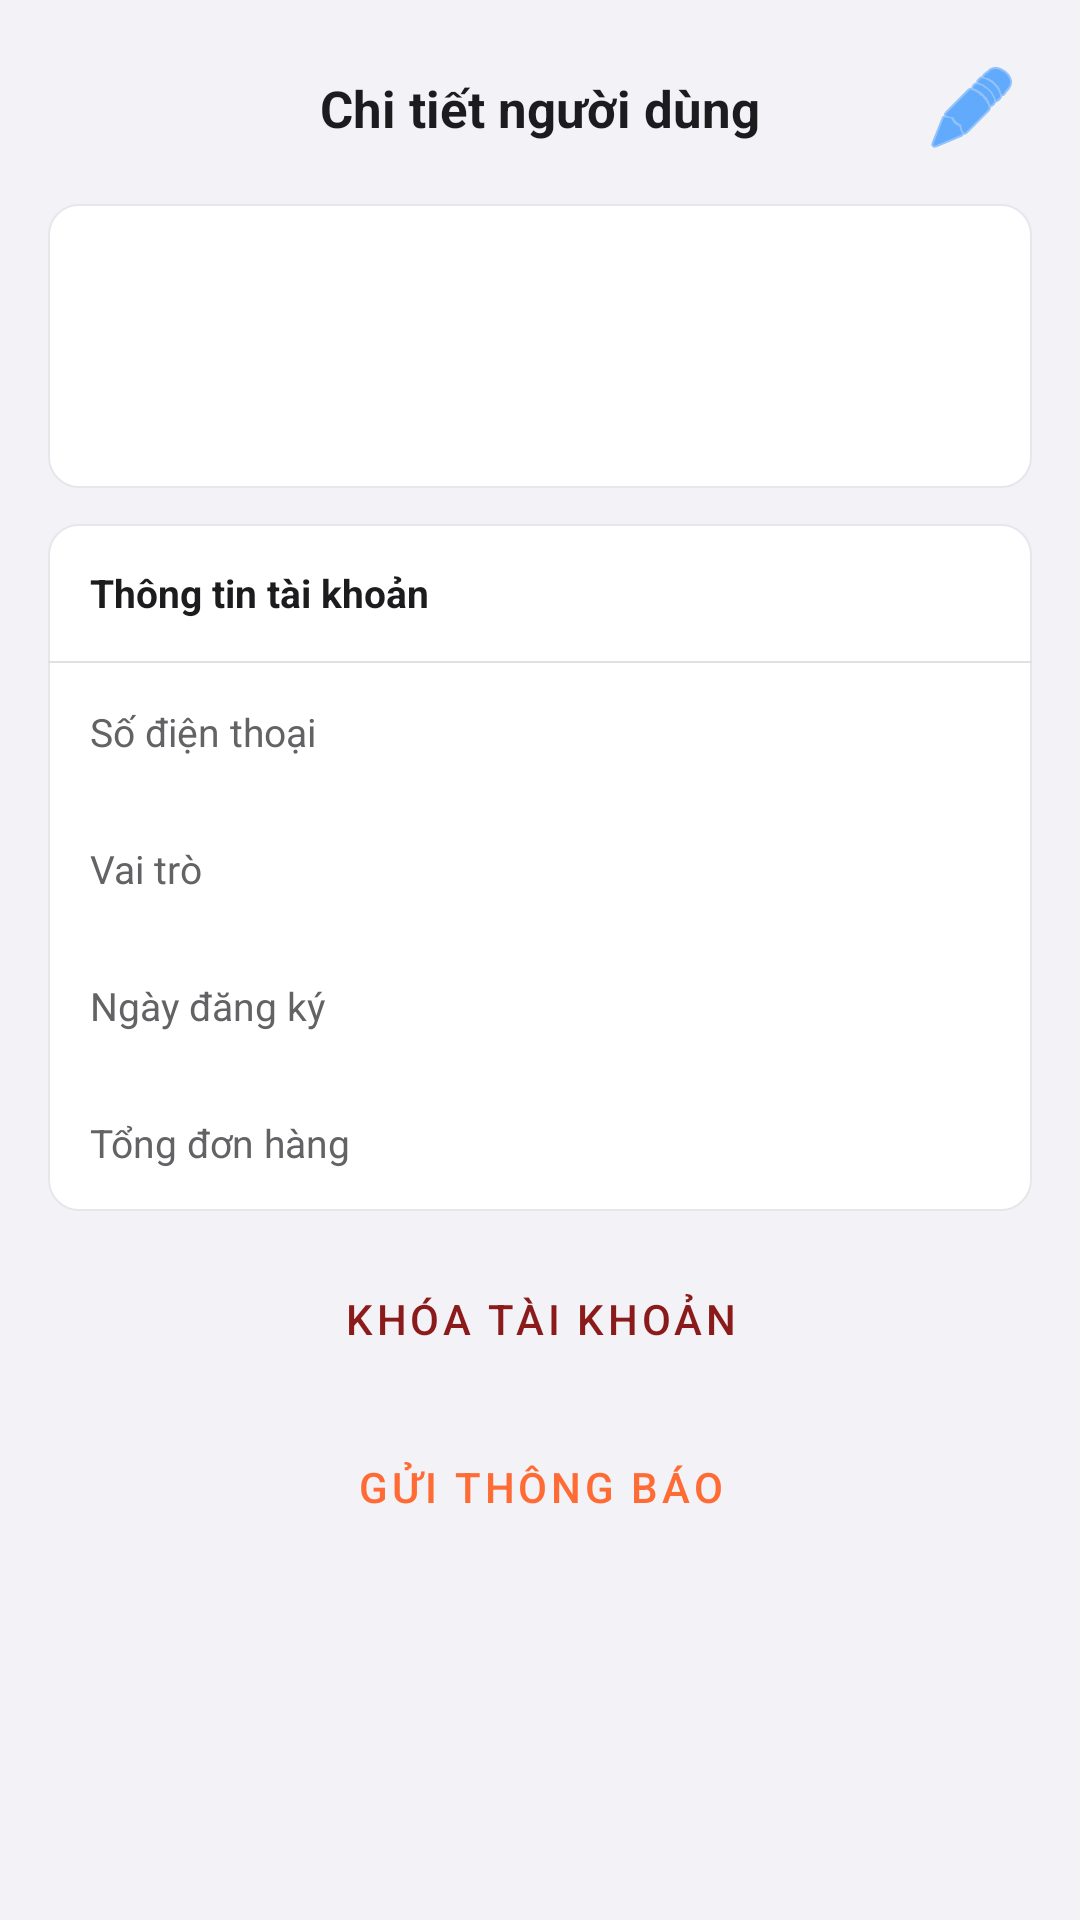

Where icons sit on this 1080px x 1920px app screen, as box(x1, y1, x2, y2):
Chỉnh sửa: box(931, 67, 1012, 148)
